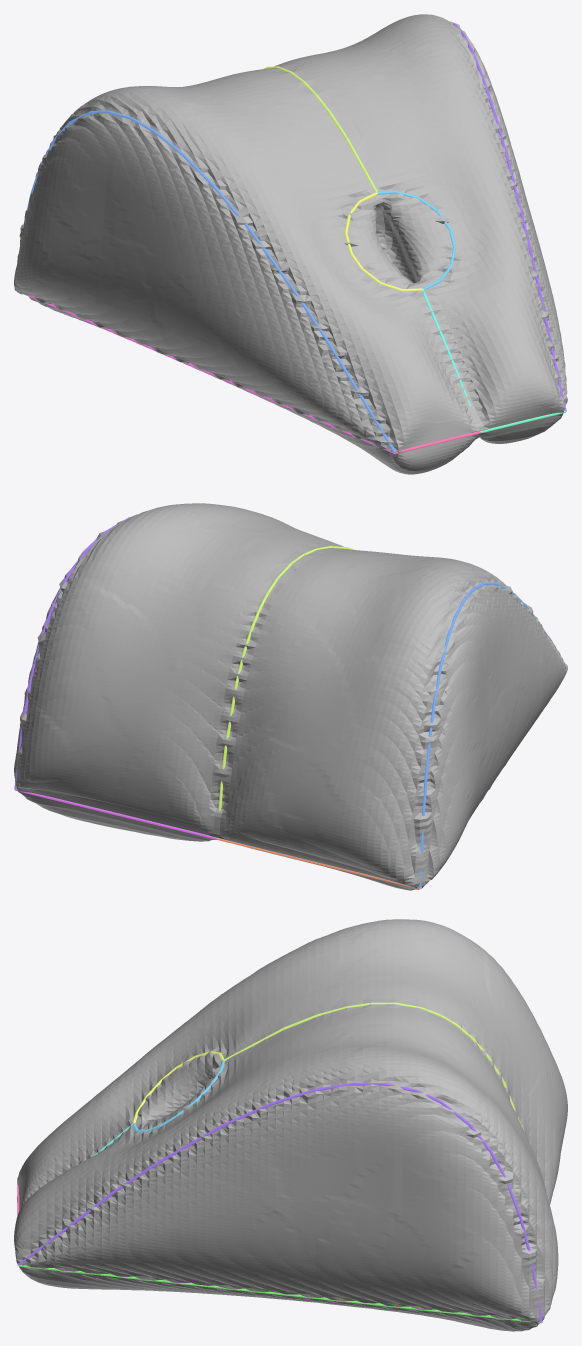
The model's file is onshape_simple_mouse.gltf.
The picture shows the model from 3 angles, top to bottom: view 1: azimuth 30°, elevation 25°; view 2: azimuth 150°, elevation 25°; view 3: azimuth 270°, elevation 25°; orthographic projection.
Bounding box in the file's own units: 0.67 × 0.4079 × 0.7486.
